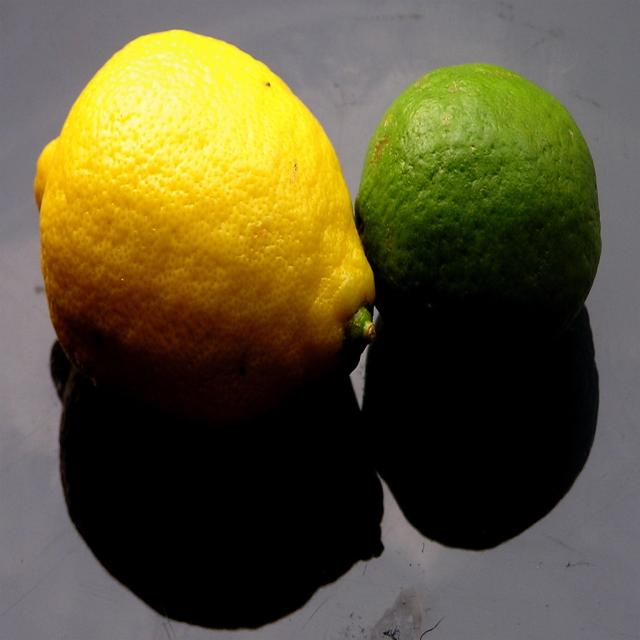Lemon: (32, 23, 374, 440), (356, 63, 603, 352)
